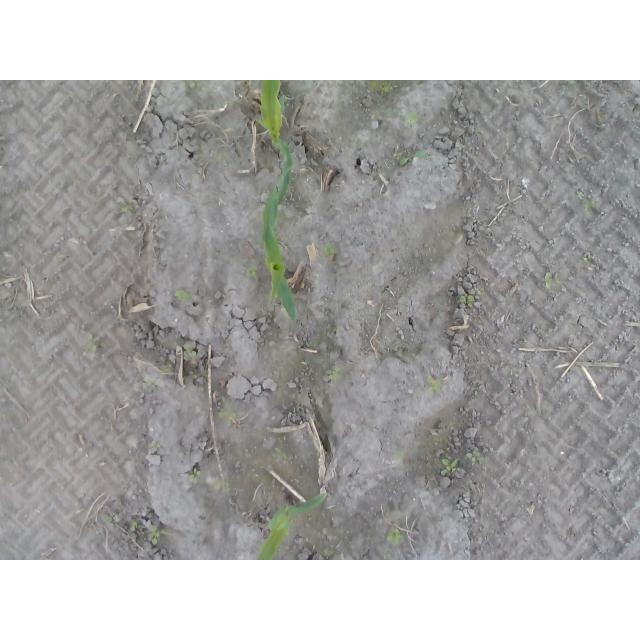Maize: (250, 81, 300, 324), (256, 492, 328, 560)
Weeds: (459, 287, 486, 306), (394, 151, 426, 166), (84, 333, 108, 353), (578, 192, 602, 212), (217, 402, 235, 426), (439, 457, 459, 477), (116, 197, 136, 217), (387, 528, 405, 548), (467, 449, 485, 466), (369, 83, 395, 94), (403, 106, 417, 126), (327, 365, 345, 380), (148, 526, 161, 546), (429, 376, 443, 392), (211, 480, 229, 492), (325, 241, 339, 255), (189, 469, 202, 483), (545, 270, 554, 290), (174, 290, 191, 300), (184, 343, 196, 357), (275, 448, 289, 460), (151, 441, 162, 455), (247, 265, 258, 277), (188, 80, 204, 88), (162, 363, 173, 373), (147, 377, 156, 388), (130, 522, 139, 533), (392, 452, 404, 460), (582, 256, 594, 263), (106, 516, 115, 524)
